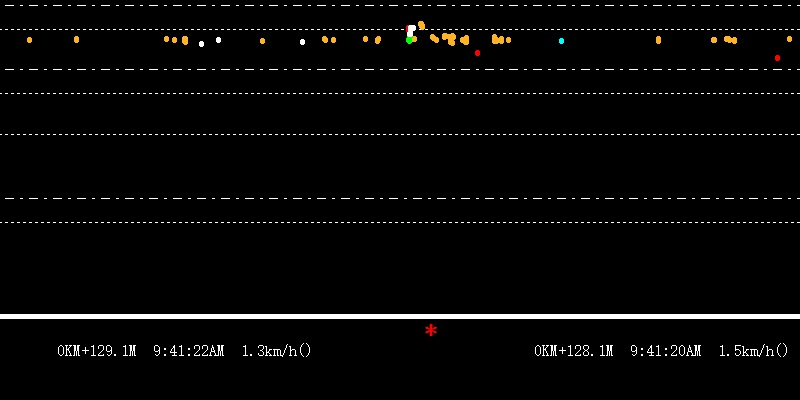face_s: (404, 22, 415, 43)
star: (422, 321, 440, 338)
